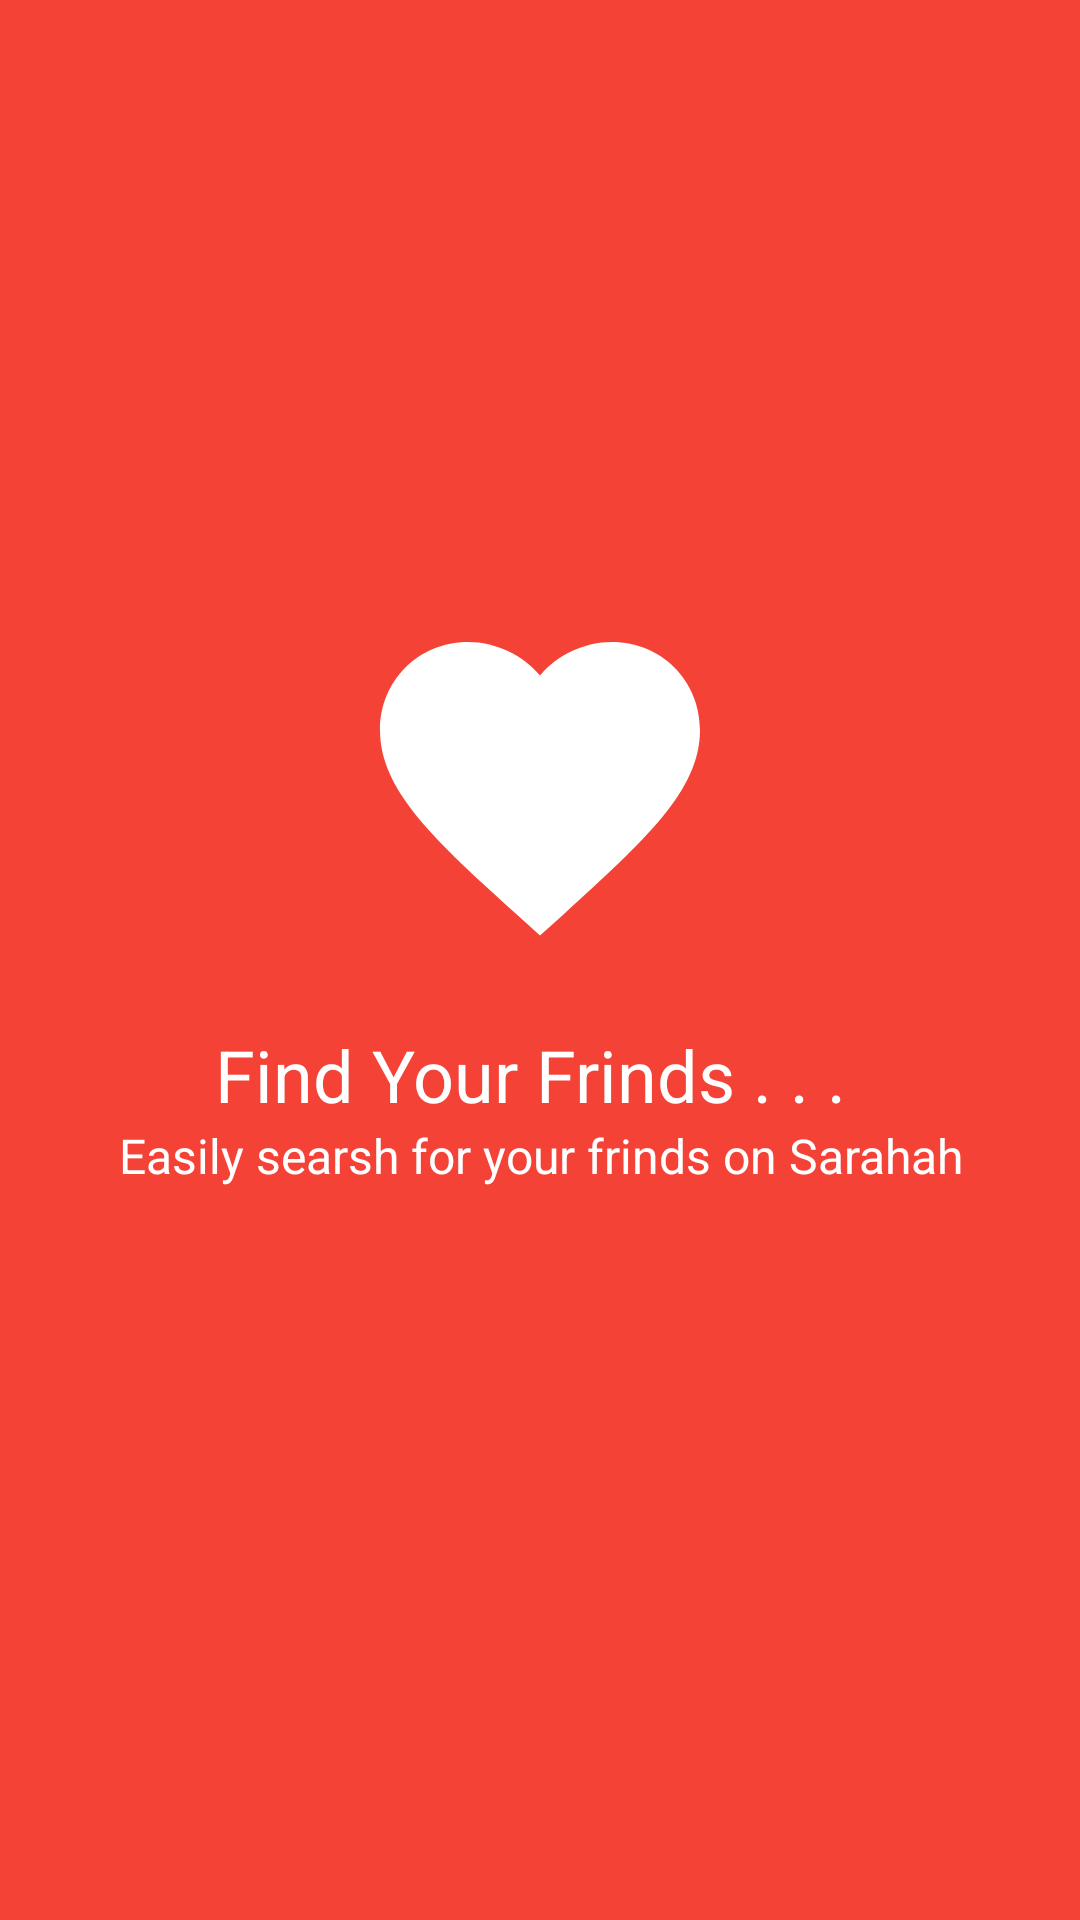

Locate icon controls on the screen. Image size 1080px×1920px, boxes as box(x1, y1, x2, y2).
favorite: box(380, 642, 700, 936)
